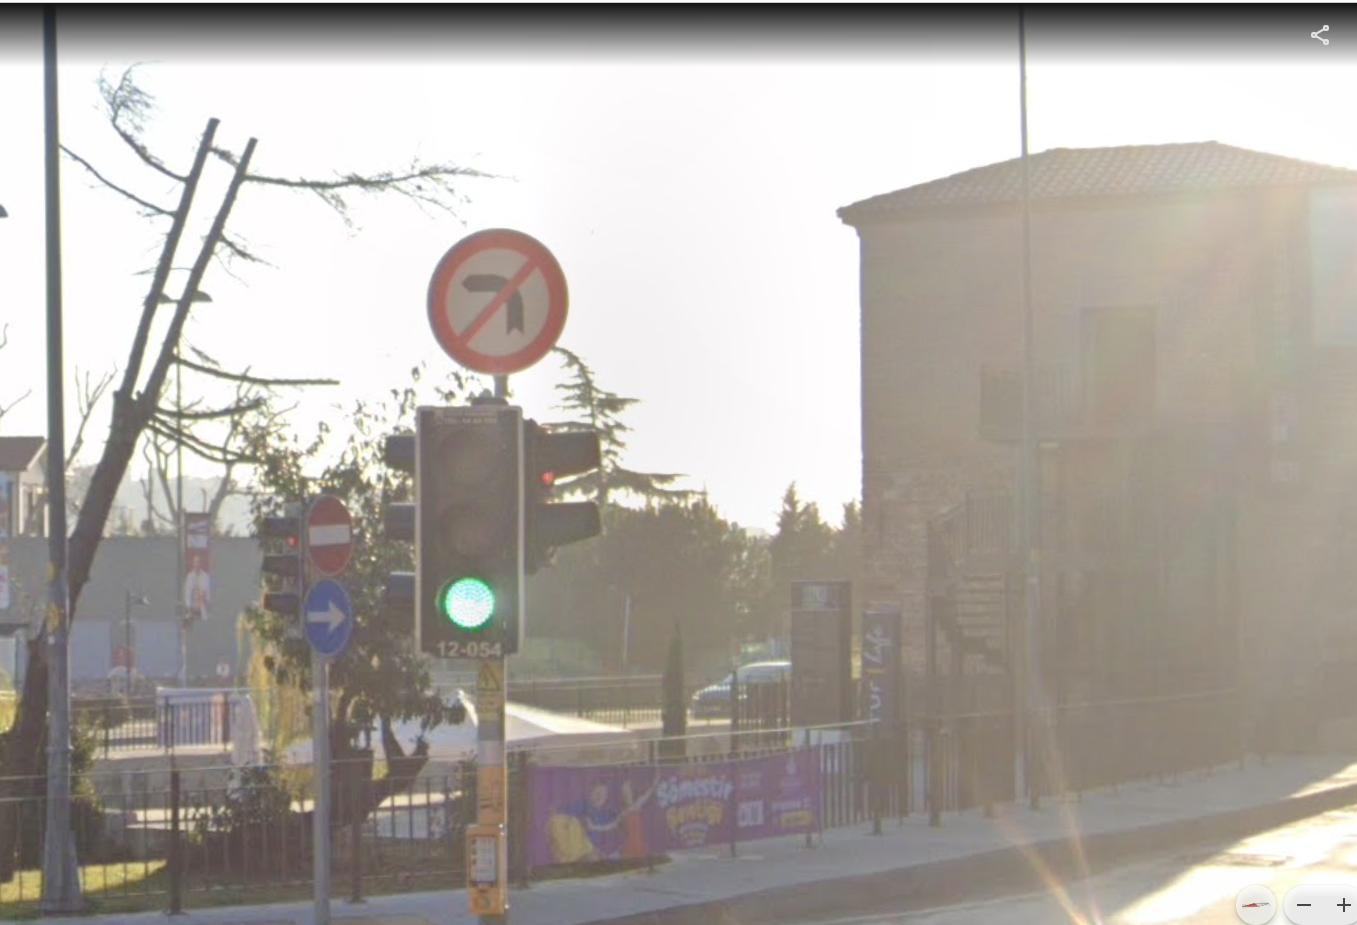greenlight: (426, 406, 517, 651)
